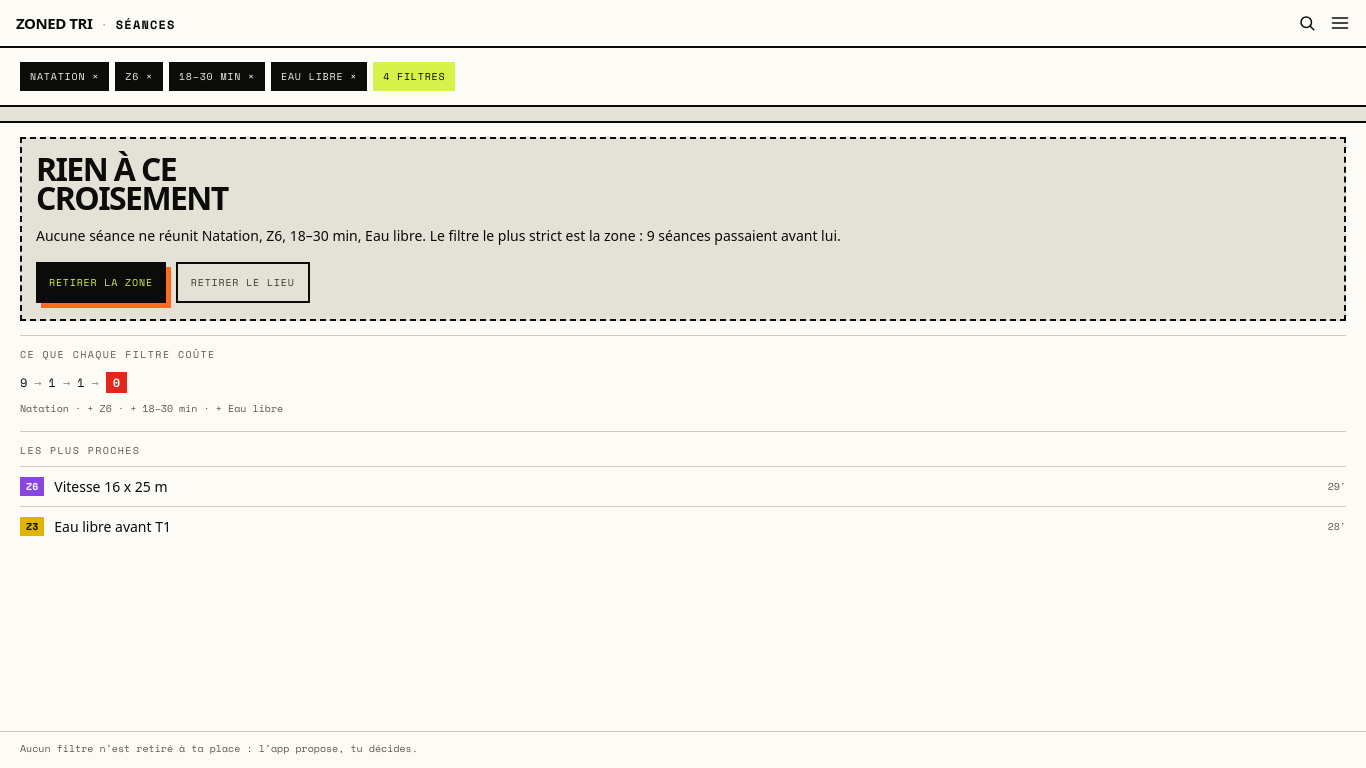
WorkoutsScreen · artboard 26 · rien à ce croisement › laisse retirer le filtre coupable depuis le vide
Click the button "Retirer la zone".
click(101, 282)  # box [36,262,166,303]
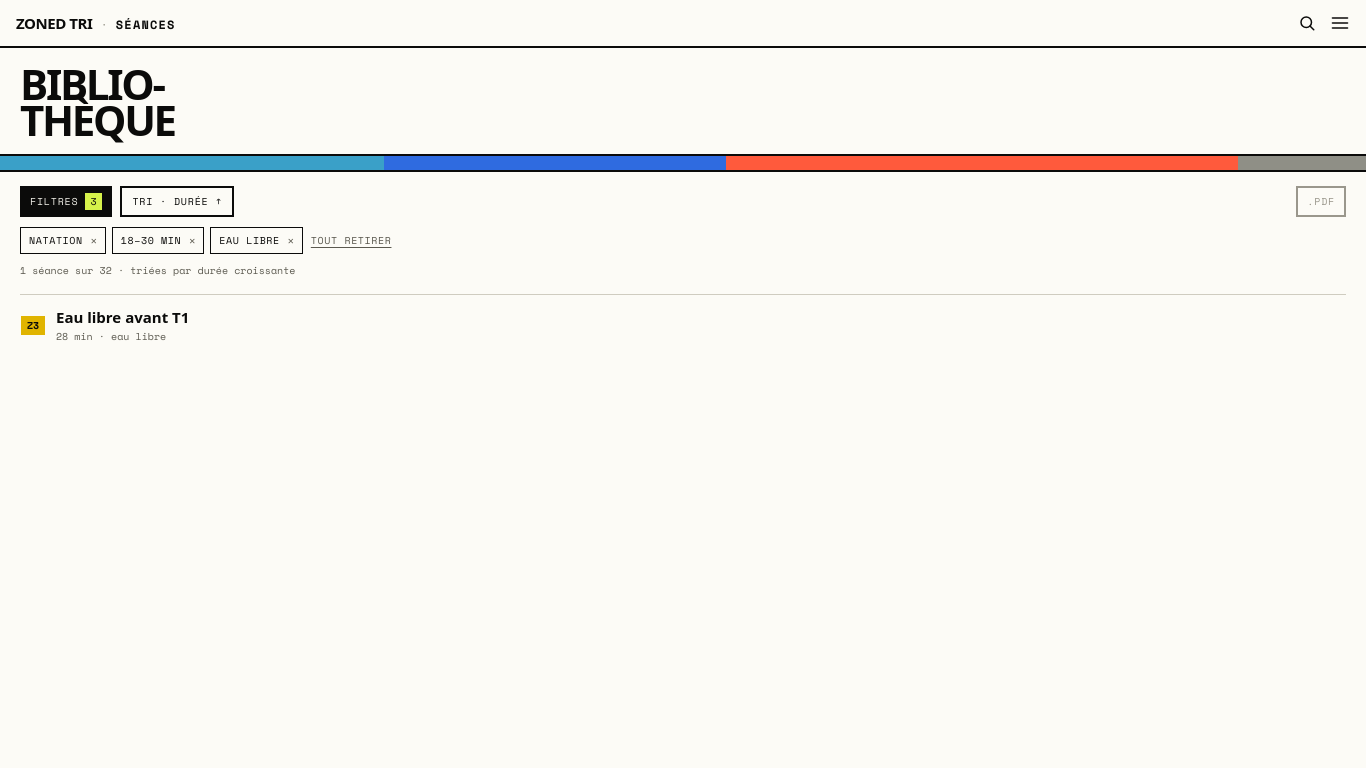
Now the text "Rien à ce croisement" is gone
